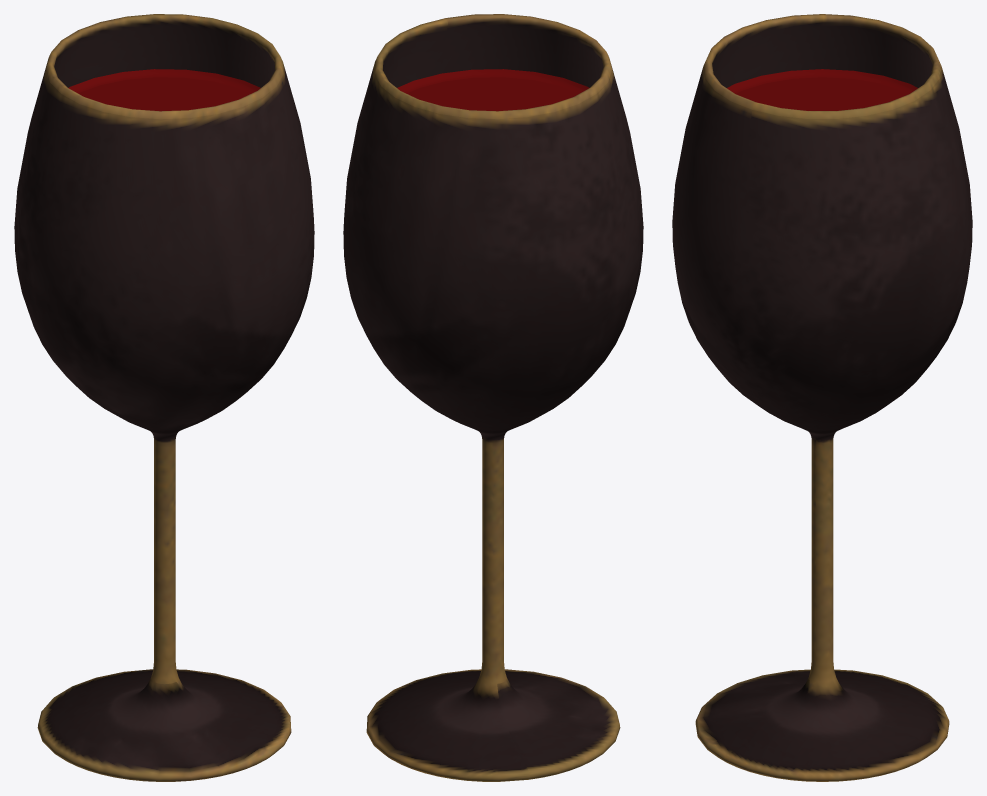
Rendered from SM_Bottle14.FBX.
3 views of the same model, side by side, from view 1: azimuth 30°, elevation 25°; view 2: azimuth 150°, elevation 25°; view 3: azimuth 270°, elevation 25° (orthographic).
Visible parts, largest first — view 1: SM_Bottle14; view 2: SM_Bottle14; view 3: SM_Bottle14.
Boxes of the visible parts, x1=… form: SM_Bottle14: x1=14, y1=14, x2=314, y2=781; SM_Bottle14: x1=343, y1=14, x2=643, y2=781; SM_Bottle14: x1=672, y1=14, x2=972, y2=781.
Size of what is drawn, in the model's own units: 9.17 by 9.19 by 22.5.
